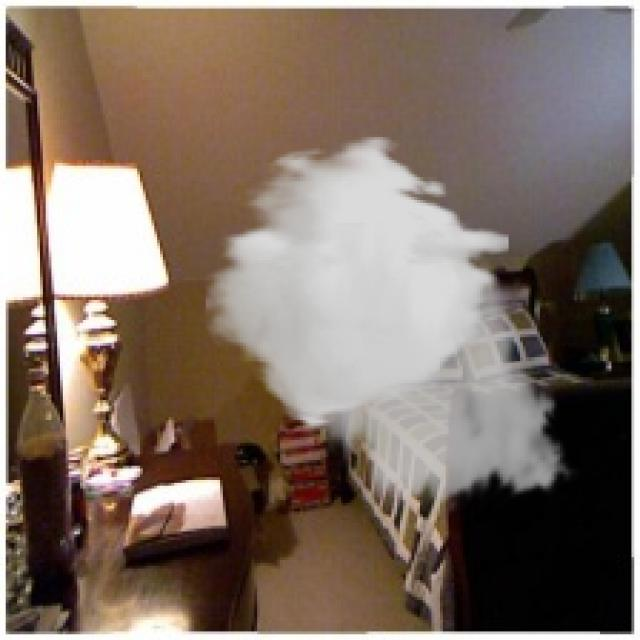smoke: (206, 134, 580, 517)
